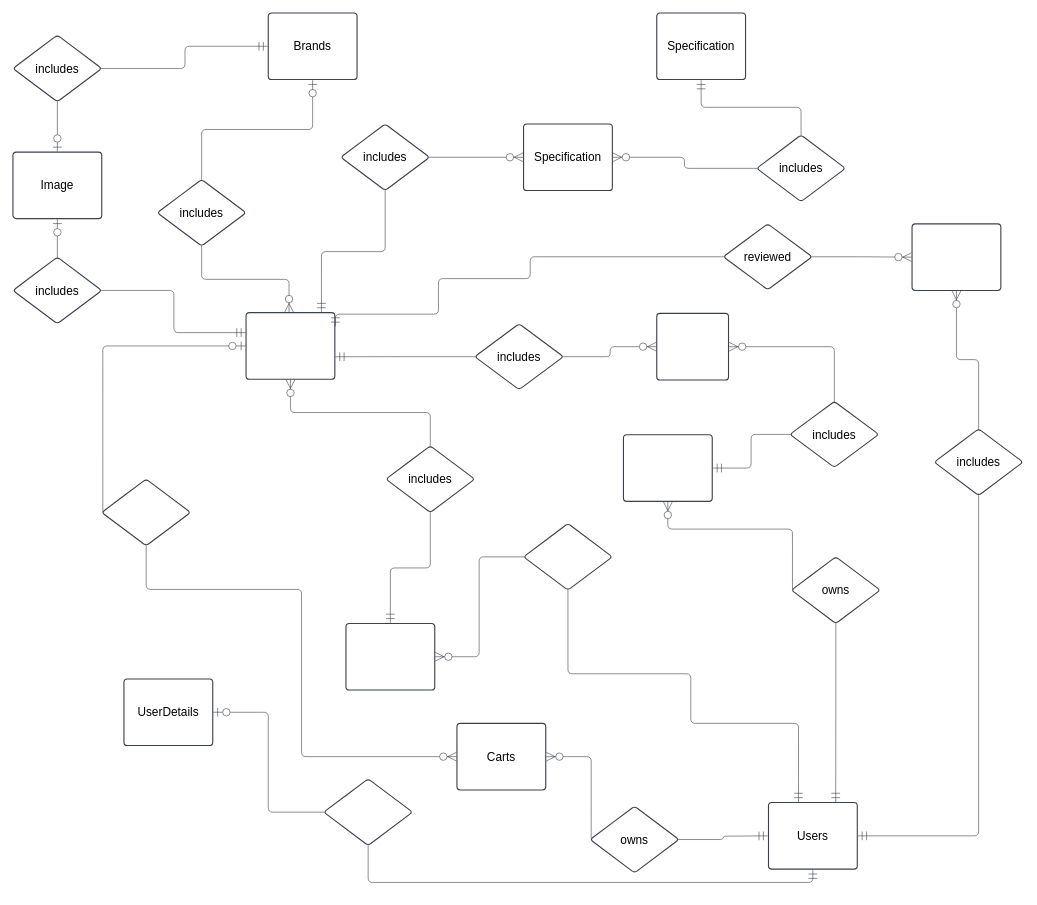
The diagram is 1037 pixels wide and 905 high, and some of its shapes have lost their labels. Each missing label, with the box of its shape:
belongs to: (101, 478, 191, 546)
has: (523, 523, 613, 590)
is described by: (323, 778, 413, 846)
OrderItems: (656, 313, 729, 380)
Orders: (623, 434, 712, 502)
Products: (245, 312, 335, 379)
Reviews: (911, 223, 1001, 291)
WishLists: (345, 623, 435, 690)
